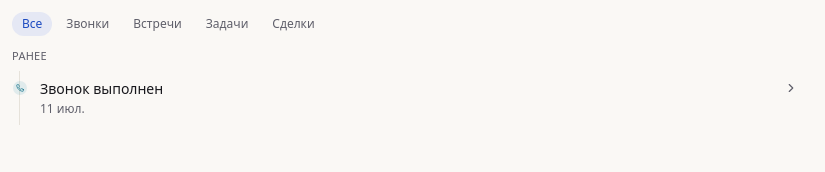
Test case: S-HEALTH-V2-1 — чипы фильтров при пустой ленте › выбран вид с нулём событий — чипы ОСТАЮТСЯ (иначе не вернуться к «Все»)
Expected: the text "Звонок выполнен" is shown, [40,78,163,98]
Click the button "Задачи". click: click(227, 24)
box: [196,12,258,36]
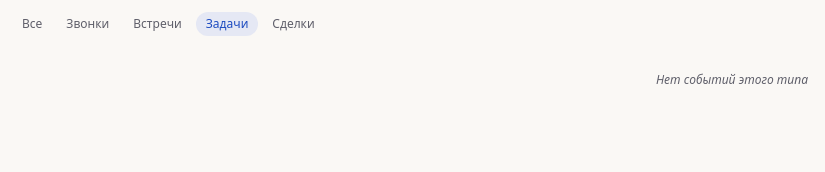
Now the text "Нет событий этого типа" is shown, box [656,71,808,88]
Click the button "Все". click: click(32, 24)
box: [12,12,52,36]
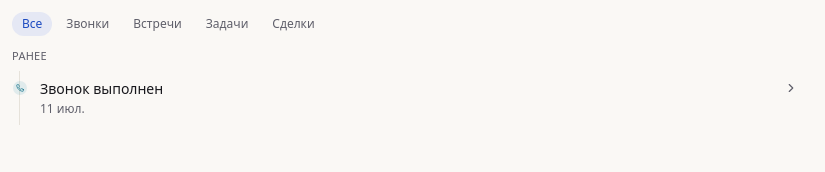
Now the text "Звонок выполнен" is shown, box [40,78,163,98]
